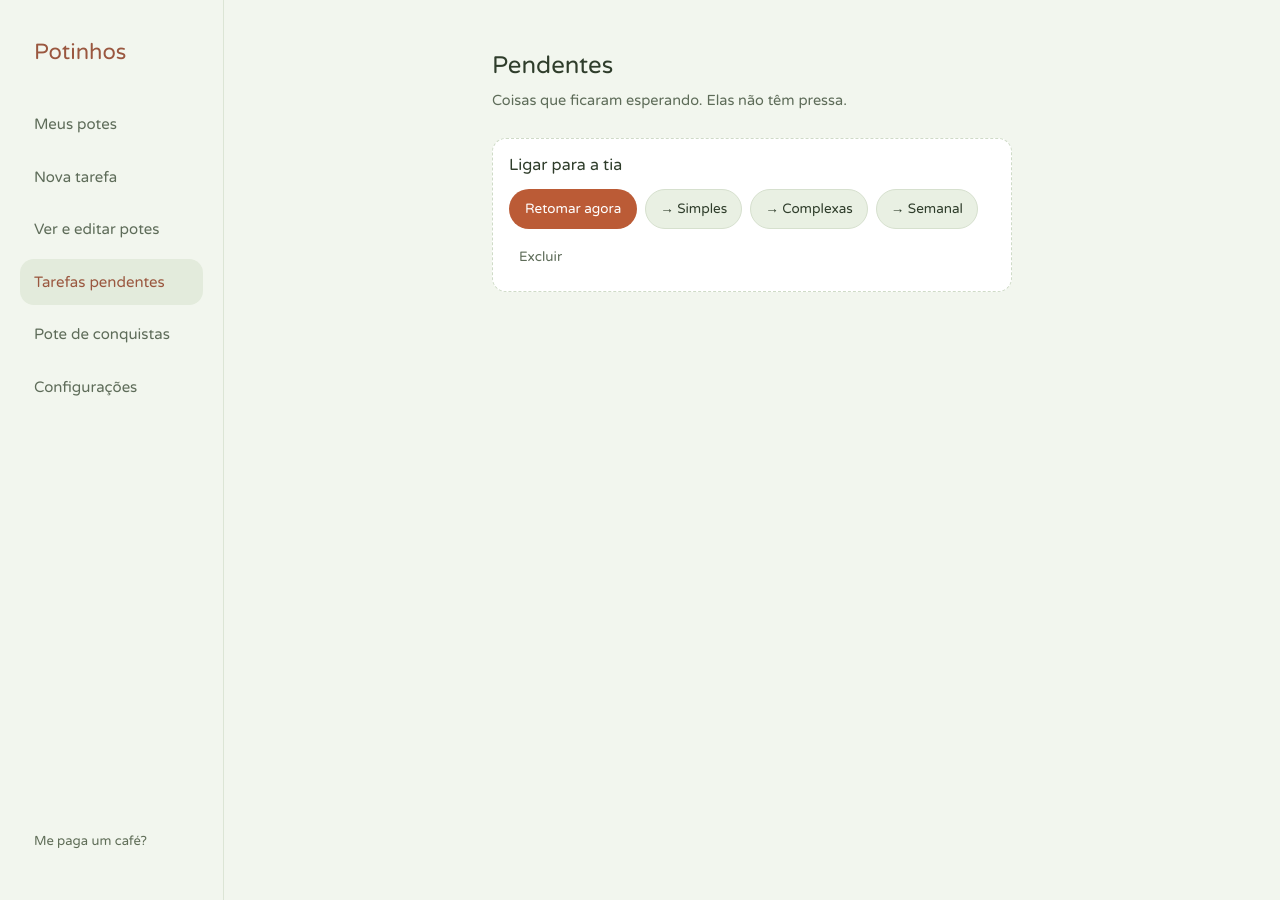
Pending › resuming opens the task right away
The image size is (1280, 900).
Expected: the heading "Pendentes" is shown, [492,51,613,80]
Click the button "Retomar agora" at (573, 209), box [509,189,637,229]
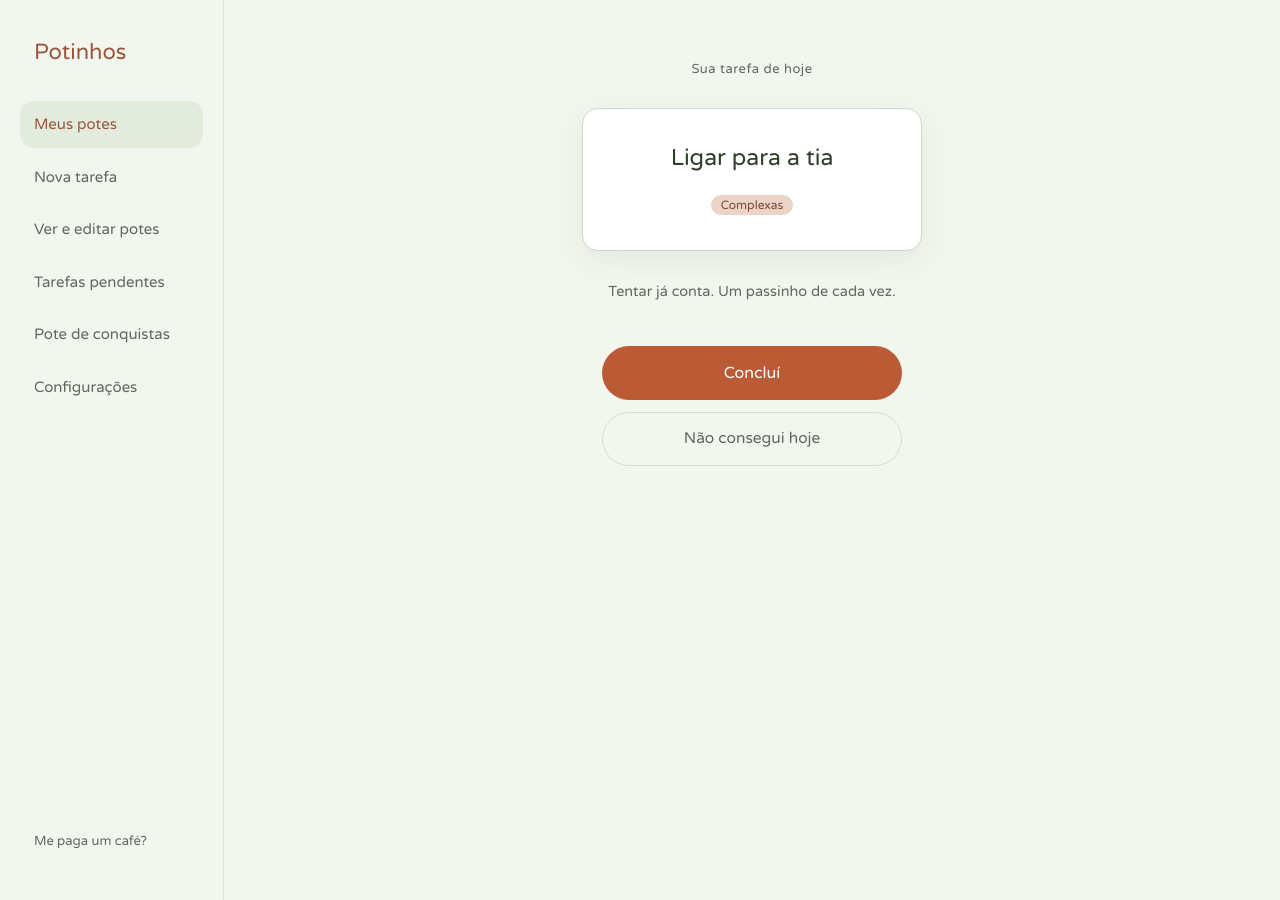
Expected: the text "Ligar para a tia" is shown, [671,144,833,172]
Expected: the heading "Sua tarefa de hoje" is shown, [691,61,812,77]
